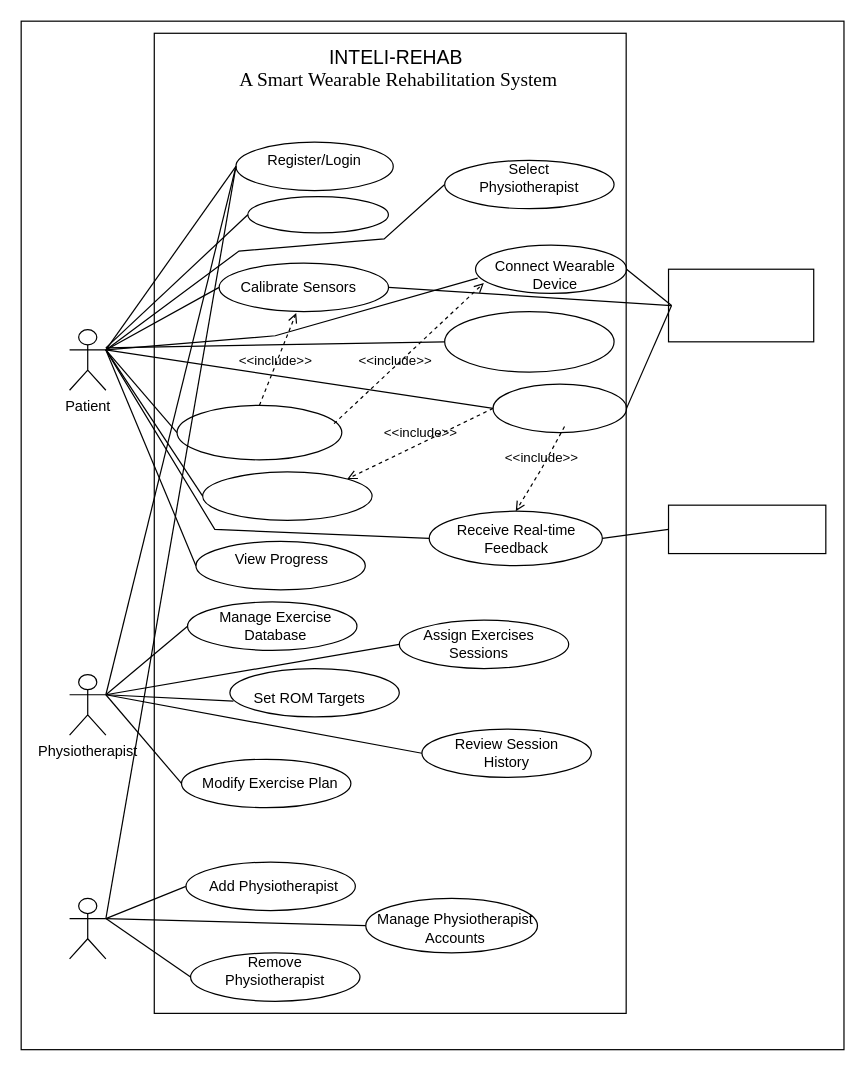
Image size: 865x1071. Some labels were removed from this diagram. Here are the shapes that lost their labels. From the top down, the centre of each, then its label:
At (x=317, y=214): "Select Clinic".
At (x=740, y=305): "Wearable Sensor Armband".
At (x=528, y=341): "View Assigned Exercise Plan".
At (x=559, y=408): "Perform Exercise".
At (x=259, y=432): "Start Rehabilitation Session".
At (x=286, y=495): "View Live Digital Twin".
At (x=746, y=529): "AI Analysis Engine".
At (x=87, y=928): "Clinic Administrator".
